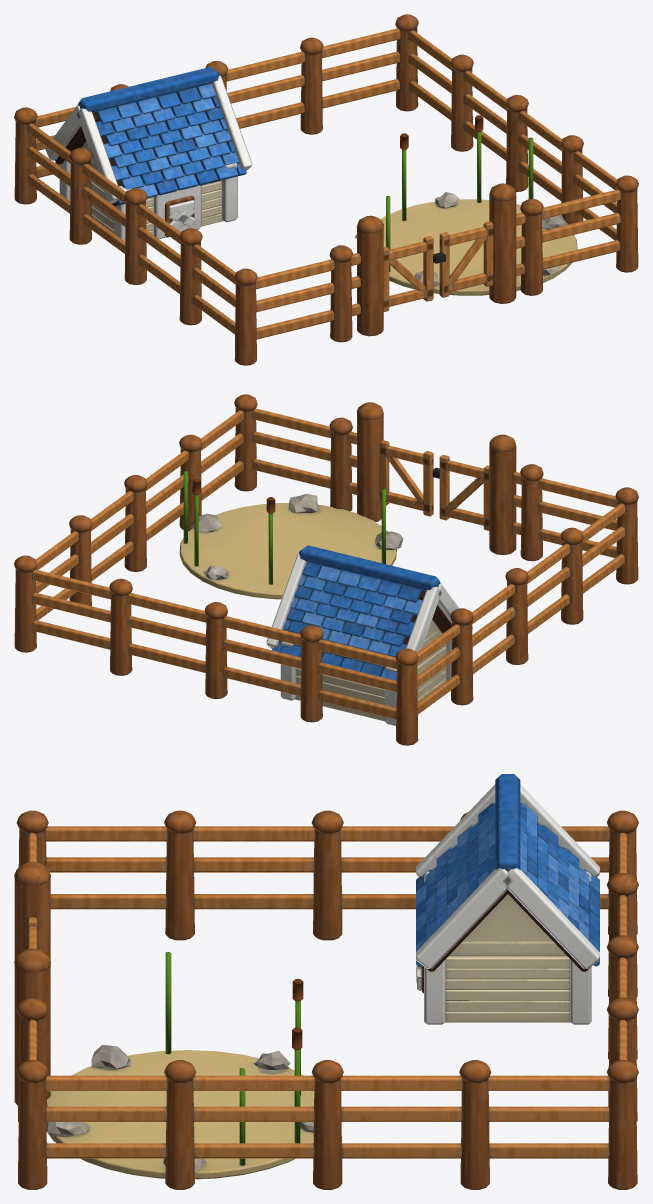
The model's file is goose_pen.glb.
3 renders of one model, top to bottom at view 1: azimuth 30°, elevation 25°; view 2: azimuth 150°, elevation 25°; view 3: azimuth 270°, elevation 25°, orthographic. The views are drawn at different scales.
Visible parts, largest first — view 1: goose_pen; view 2: goose_pen; view 3: goose_pen.
Boxes of the visible parts, box(x1,y1,x2,y2) form: goose_pen: box(14, 14, 638, 365); goose_pen: box(14, 394, 638, 745); goose_pen: box(14, 774, 638, 1189).
Bounding box in the file's own units: 2 × 0.615 × 2.01.
1 material, 1 textured.
